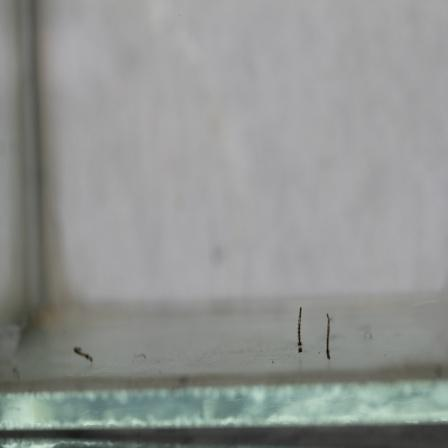Jentik-Nyamuk: (319, 308, 336, 363), (293, 301, 309, 358)
